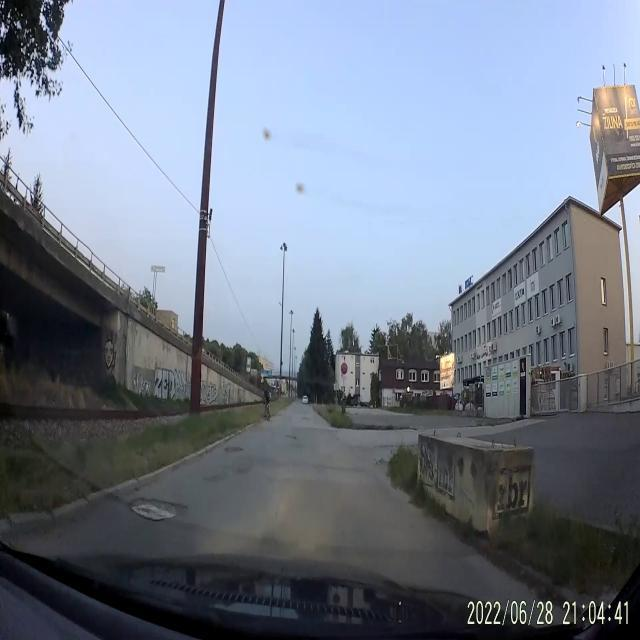Manhole: (222, 445, 244, 455)
Pothole: (130, 484, 184, 528), (284, 432, 298, 440)
